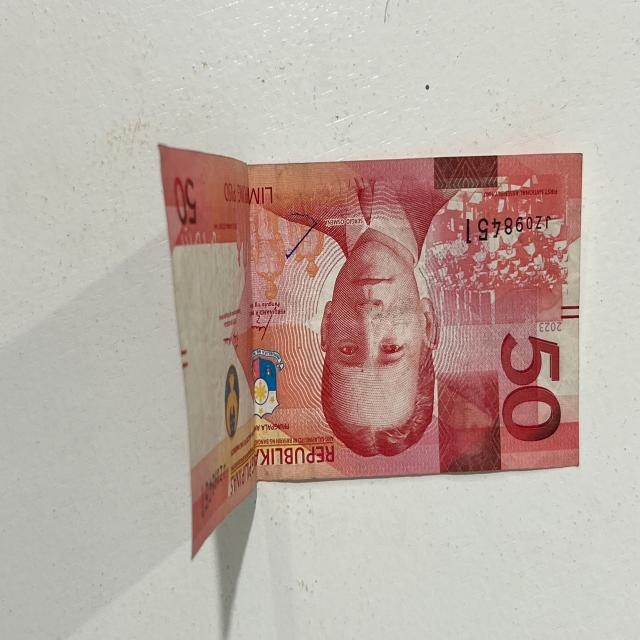concealed_value: (437, 368, 500, 466)
serial_number: (459, 202, 551, 253)
value: (498, 328, 568, 452)
